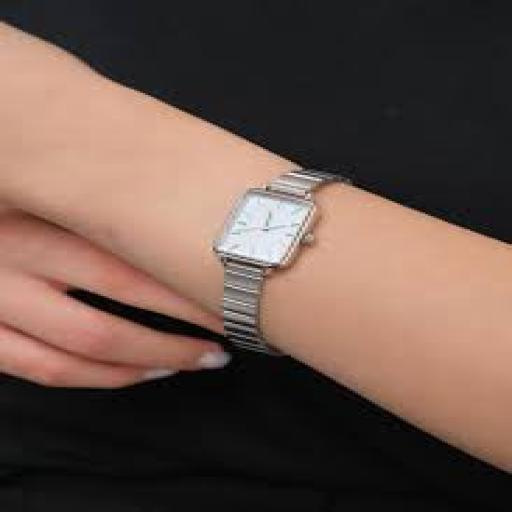KolSaati: (181, 141, 354, 372)
